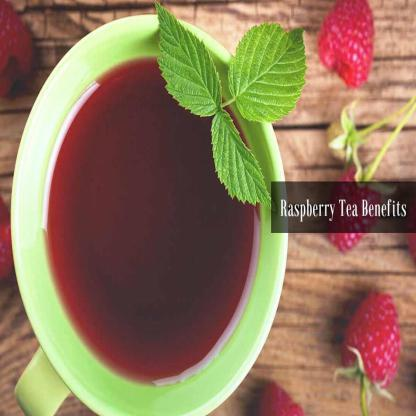Raspberry leaf: (150, 2, 224, 120), (232, 22, 308, 122), (209, 110, 275, 212)
